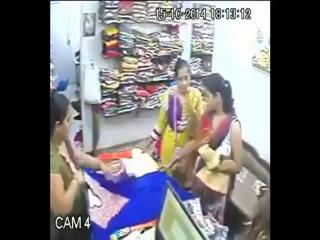Normal: (168, 74, 244, 226), (50, 92, 117, 240), (144, 57, 212, 169)
